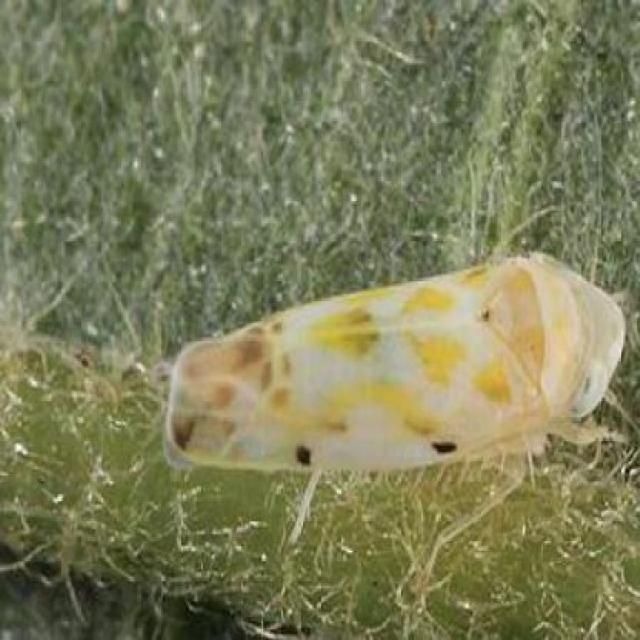green-leafhopper: (162, 246, 624, 488)
